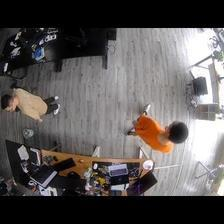normal: (126, 104, 190, 155), (1, 88, 60, 123)
